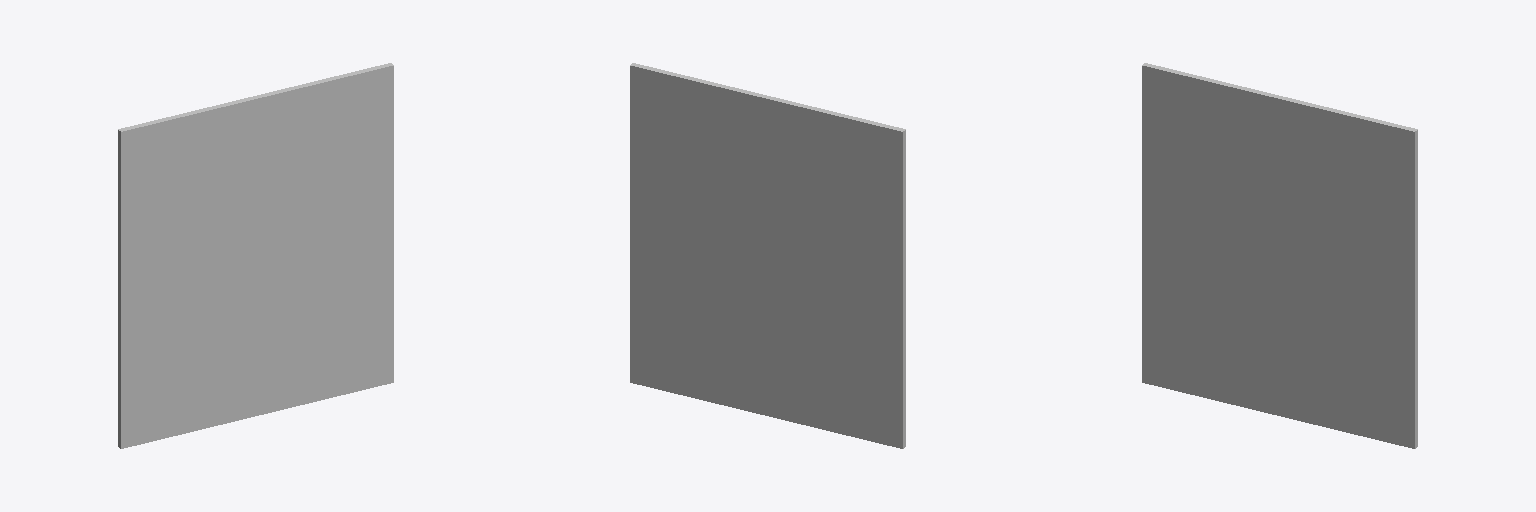
File: Table_Model.obj
3 views of the same model, side by side, from view 1: azimuth 30°, elevation 25°; view 2: azimuth 150°, elevation 25°; view 3: azimuth 330°, elevation 25° (orthographic).
Size of the model in its own units: 900 by 1000 by 20.